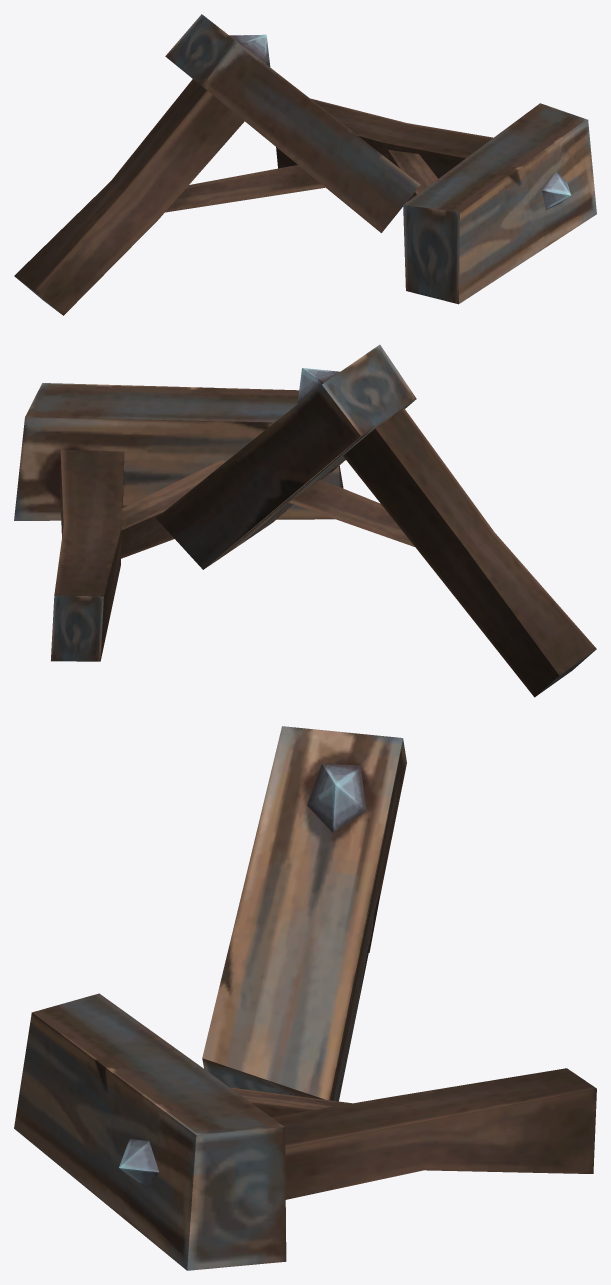
Rendered from mine_railing_small_broken_01.fbx.
3 renders of one model, top to bottom at view 1: azimuth 30°, elevation 25°; view 2: azimuth 150°, elevation 25°; view 3: azimuth 270°, elevation 25°, orthographic. The views are drawn at different scales.
Visible parts, largest first — view 1: obj0.158; view 2: obj0.158; view 3: obj0.158.
Part boxes in pixels (left/top/right/bottom): obj0.158: left=14, top=14, right=596, bottom=315; obj0.158: left=14, top=344, right=596, bottom=697; obj0.158: left=14, top=726, right=596, bottom=1270.
Bounding box in the file's own units: 2.68 × 1.18 × 1.84.
